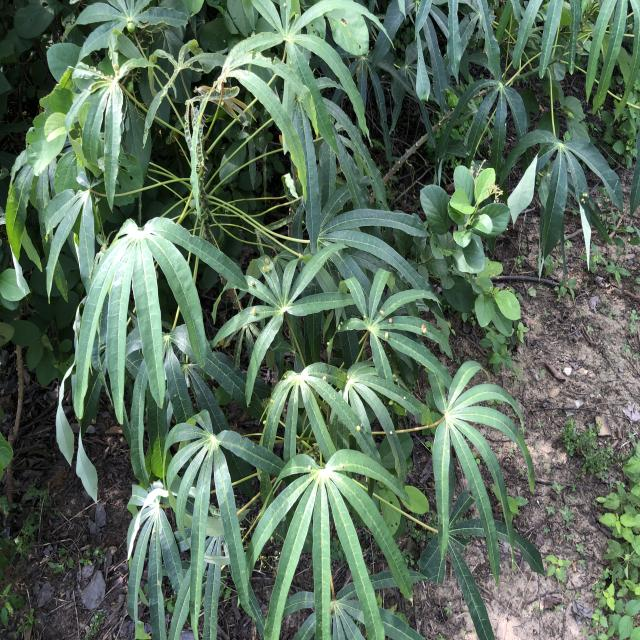Maleza: (423, 154, 514, 273), (460, 232, 536, 338)
Mosca: (379, 305, 396, 341), (419, 316, 435, 346), (384, 387, 402, 411), (255, 253, 275, 273), (244, 300, 263, 321), (301, 460, 317, 482), (247, 274, 263, 293), (356, 419, 372, 436), (317, 364, 330, 384), (335, 455, 349, 472)
